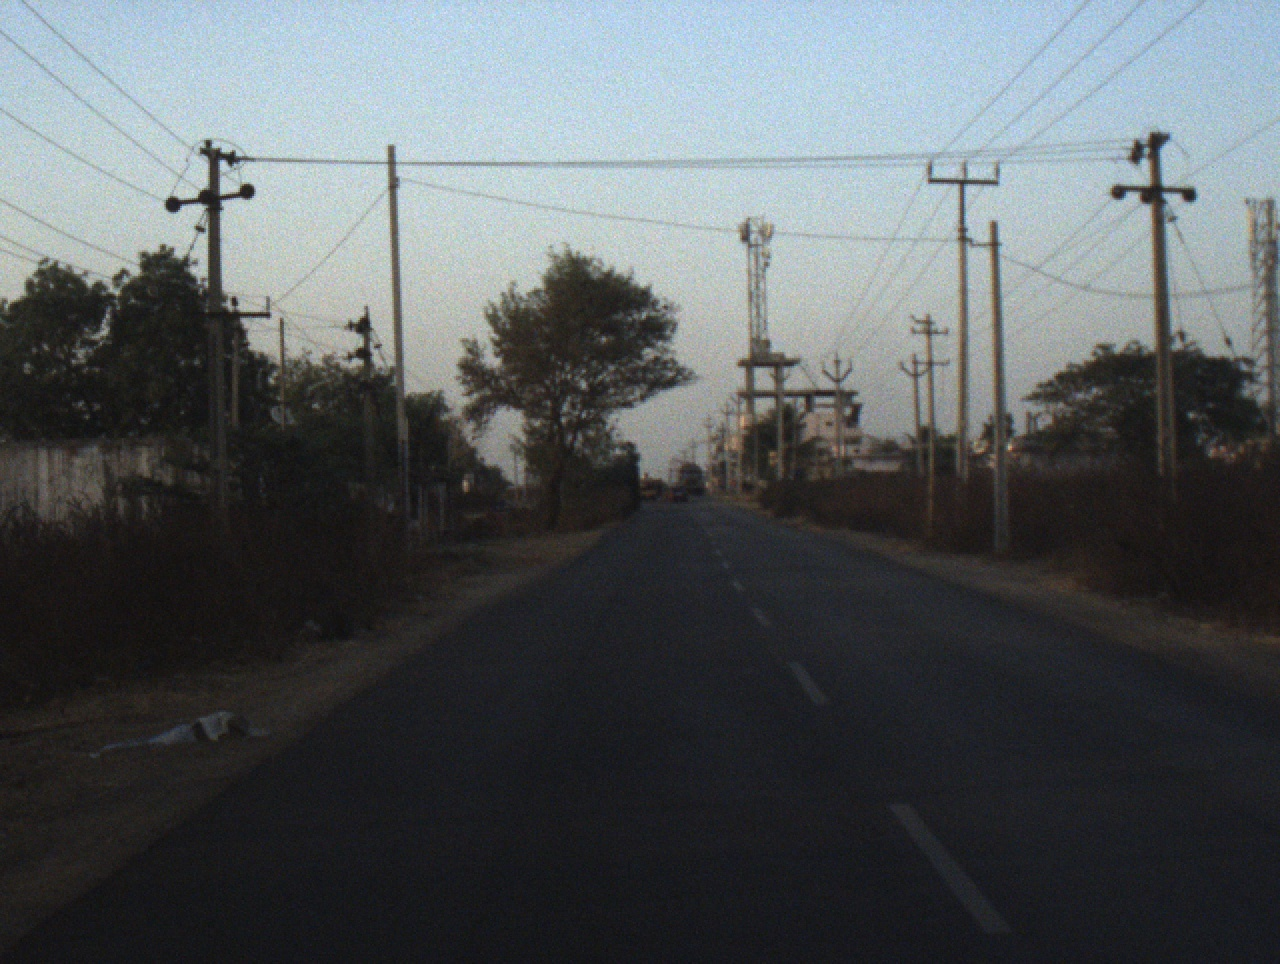autorickshaw: (638, 477, 661, 502)
car: (658, 486, 689, 504)
truck: (676, 458, 707, 499)
